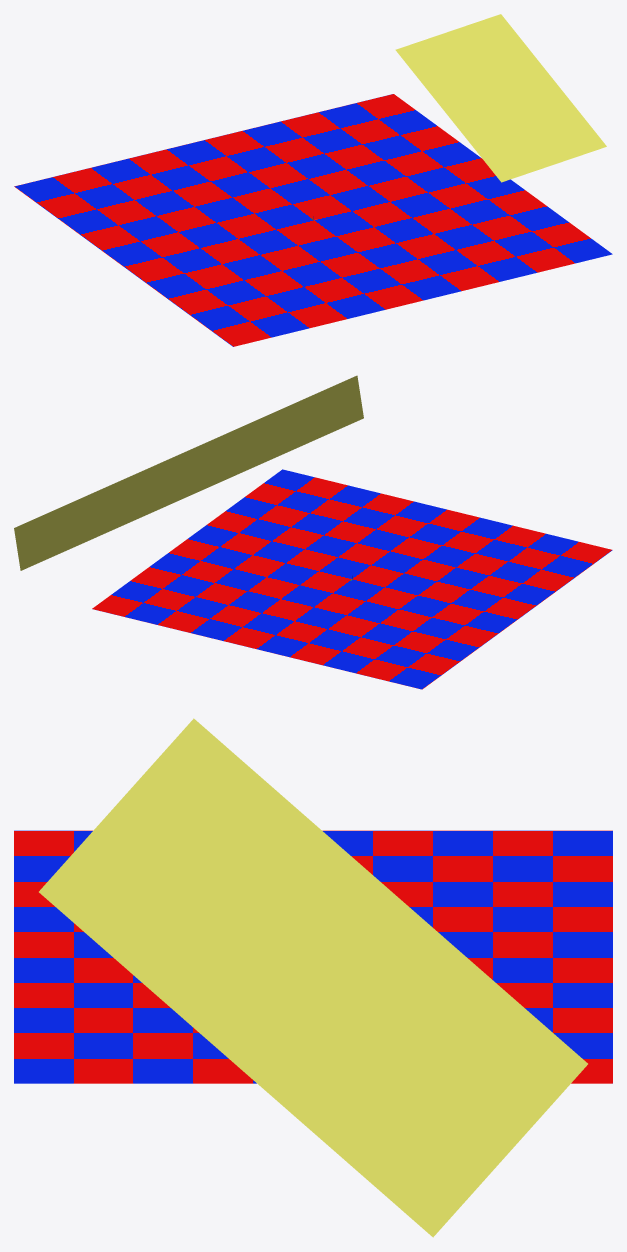
The picture shows the model from 3 angles, top to bottom: view 1: azimuth 30°, elevation 25°; view 2: azimuth 150°, elevation 25°; view 3: azimuth 270°, elevation 25°; orthographic projection. The views are drawn at different scales.
Parts seen in each view (by area): view 1: Ground, Plane; view 2: Ground, Plane; view 3: Plane, Ground.
Boxes of the visible parts, <box> form: Ground: <box>14,94,612,346</box>; Plane: <box>395,14,606,182</box>; Ground: <box>92,469,612,689</box>; Plane: <box>14,375,363,570</box>; Plane: <box>39,718,587,1237</box>; Ground: <box>14,830,612,1083</box>.
Size of the model in its own units: 71383 by 30267 by 51406.
5 materials, 1 textured.
